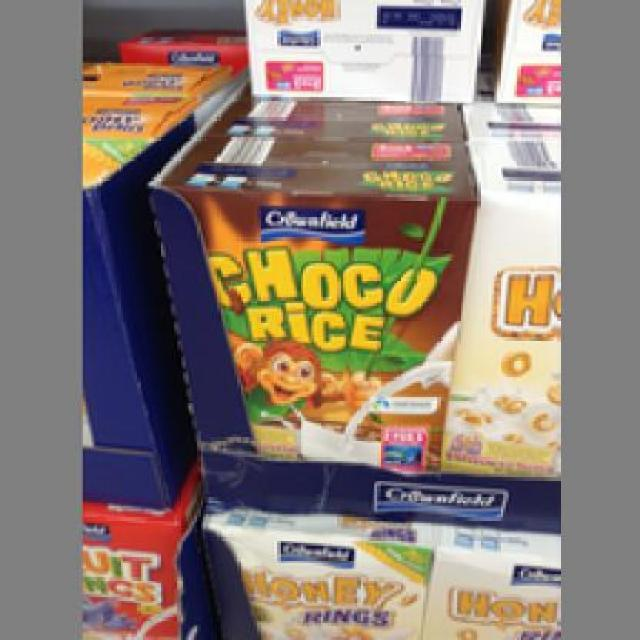Cereal: (154, 130, 472, 467)
